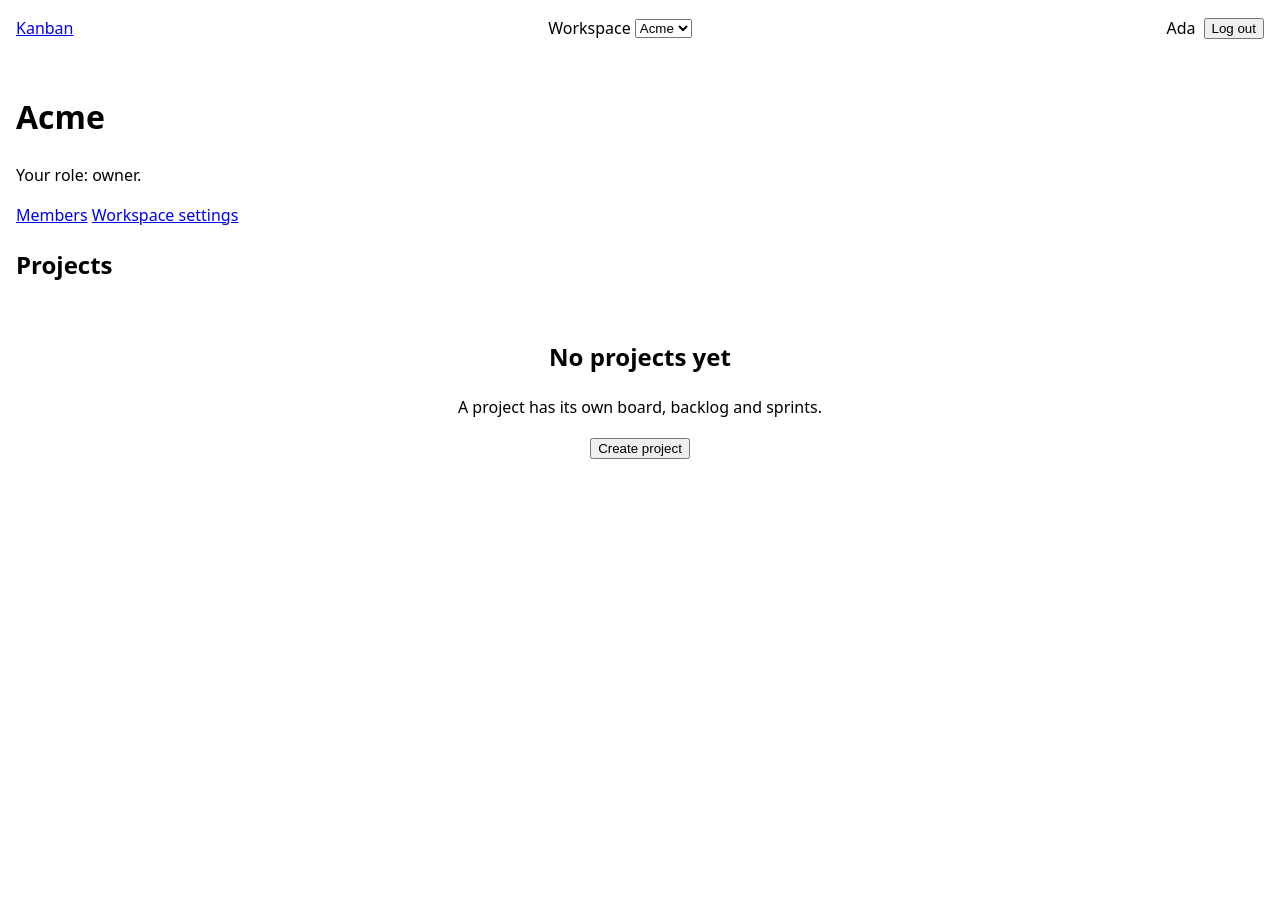
Test case: workspace page projects › shows the empty state, suggests the key and creates a project
Click the button "Create project" at (640, 448), box top-left (590, 438), bottom-right (690, 458)
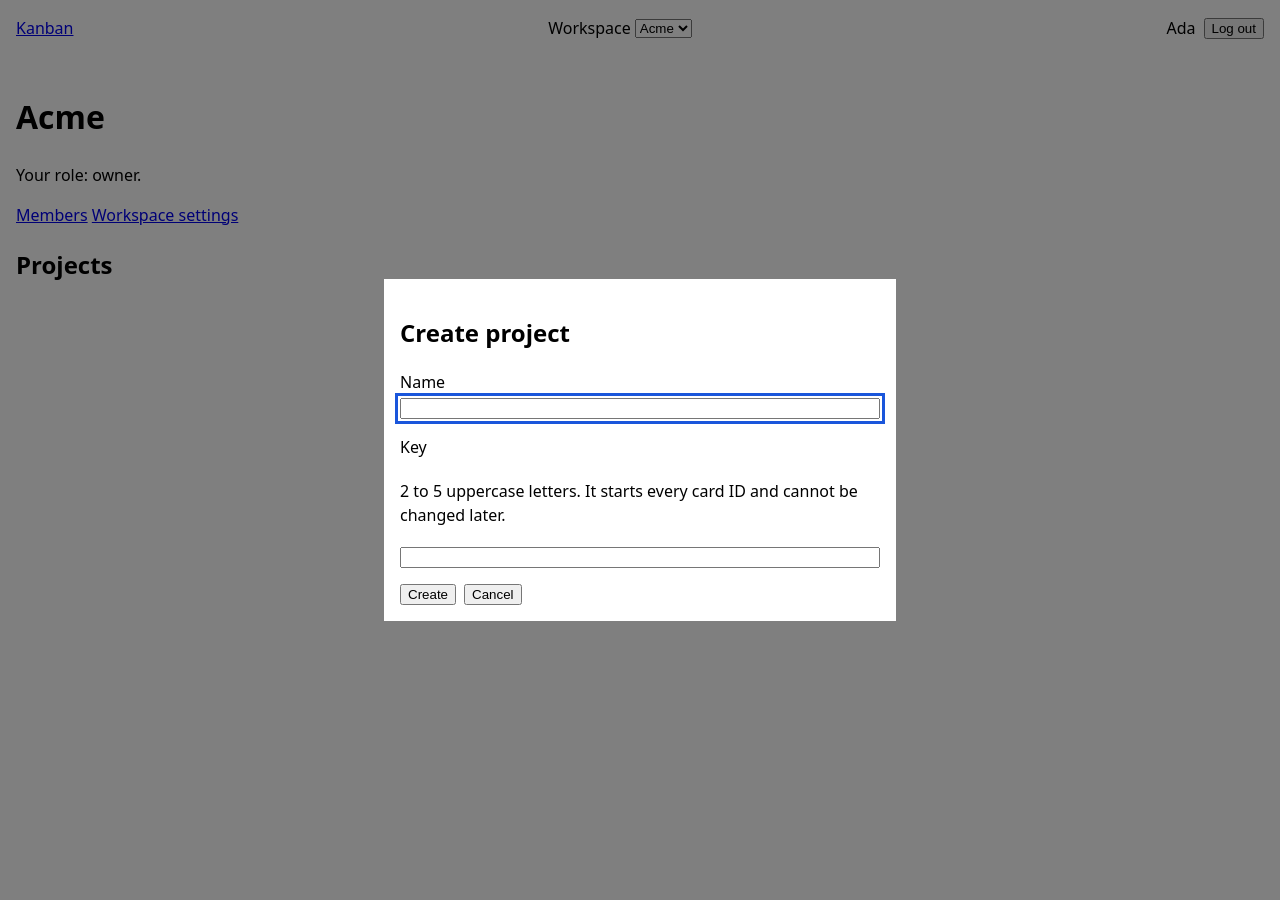
Type "Kanban Board" into the field labelled "Name" at (640, 409), box top-left (400, 398), bottom-right (880, 419)
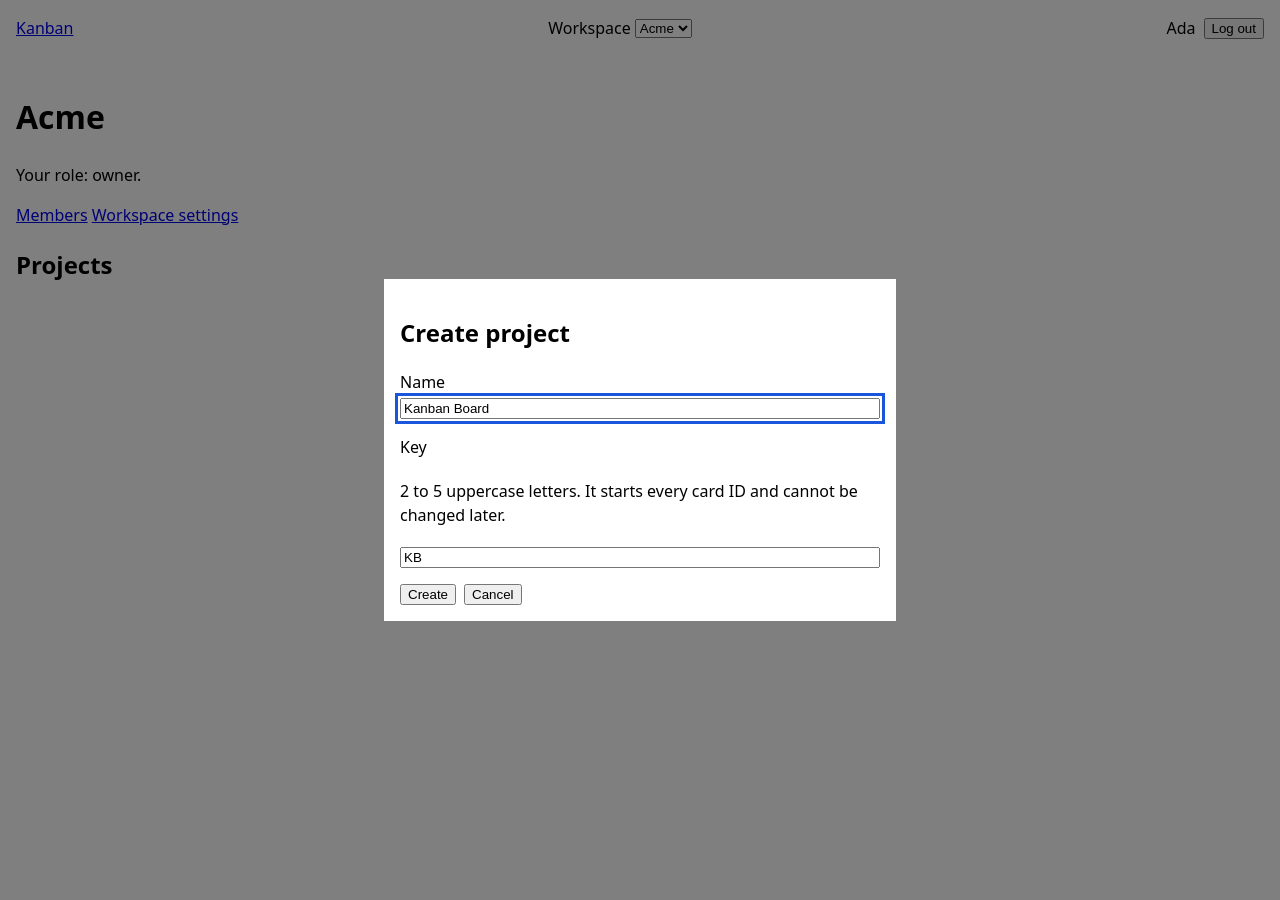
Expected: the field labelled "Key" holds "KB", top-left (400, 547), bottom-right (880, 568)
Click the button "Create" at (428, 595), box top-left (400, 584), bottom-right (456, 605)
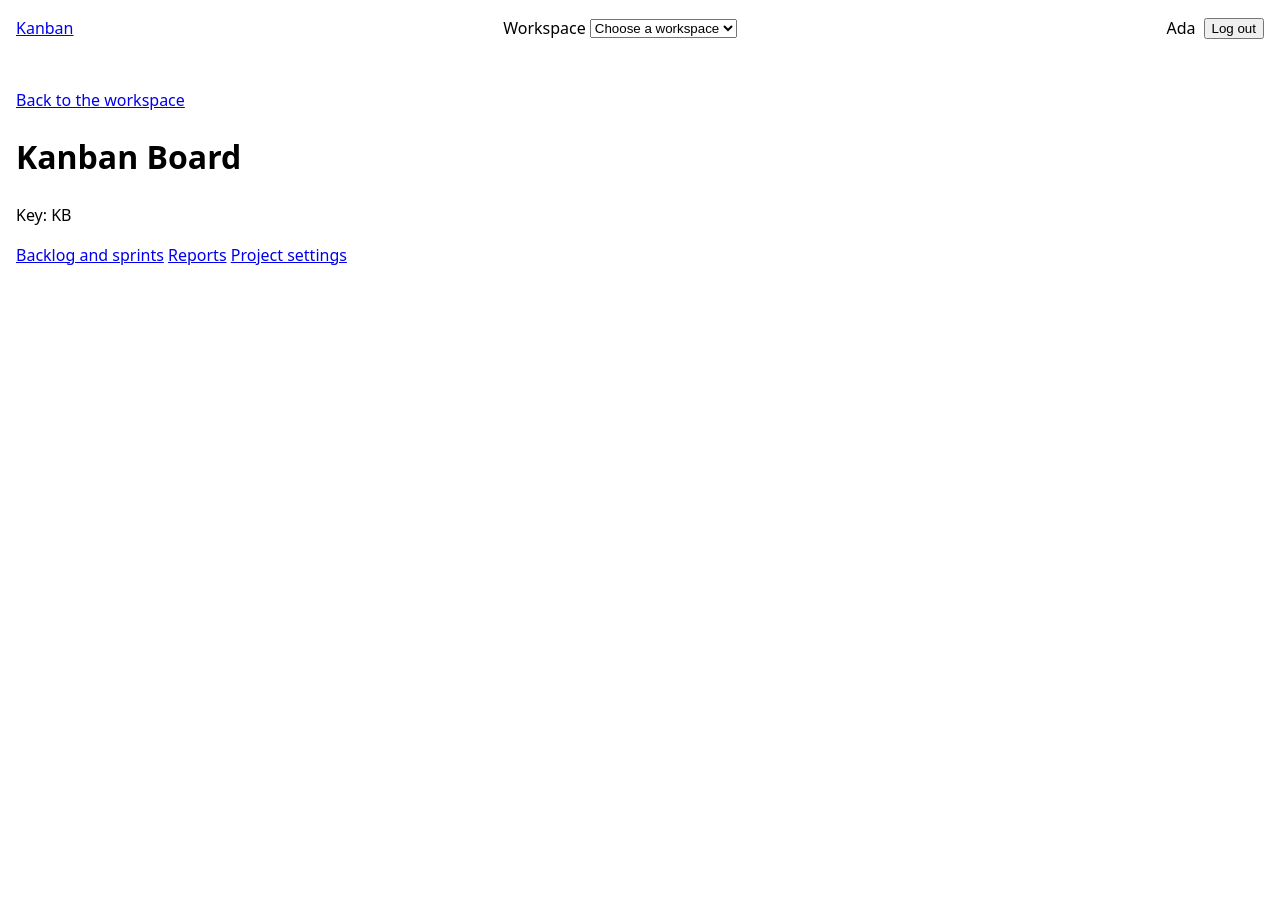
Expected: the heading "Kanban Board" is shown, top-left (16, 135), bottom-right (241, 178)
